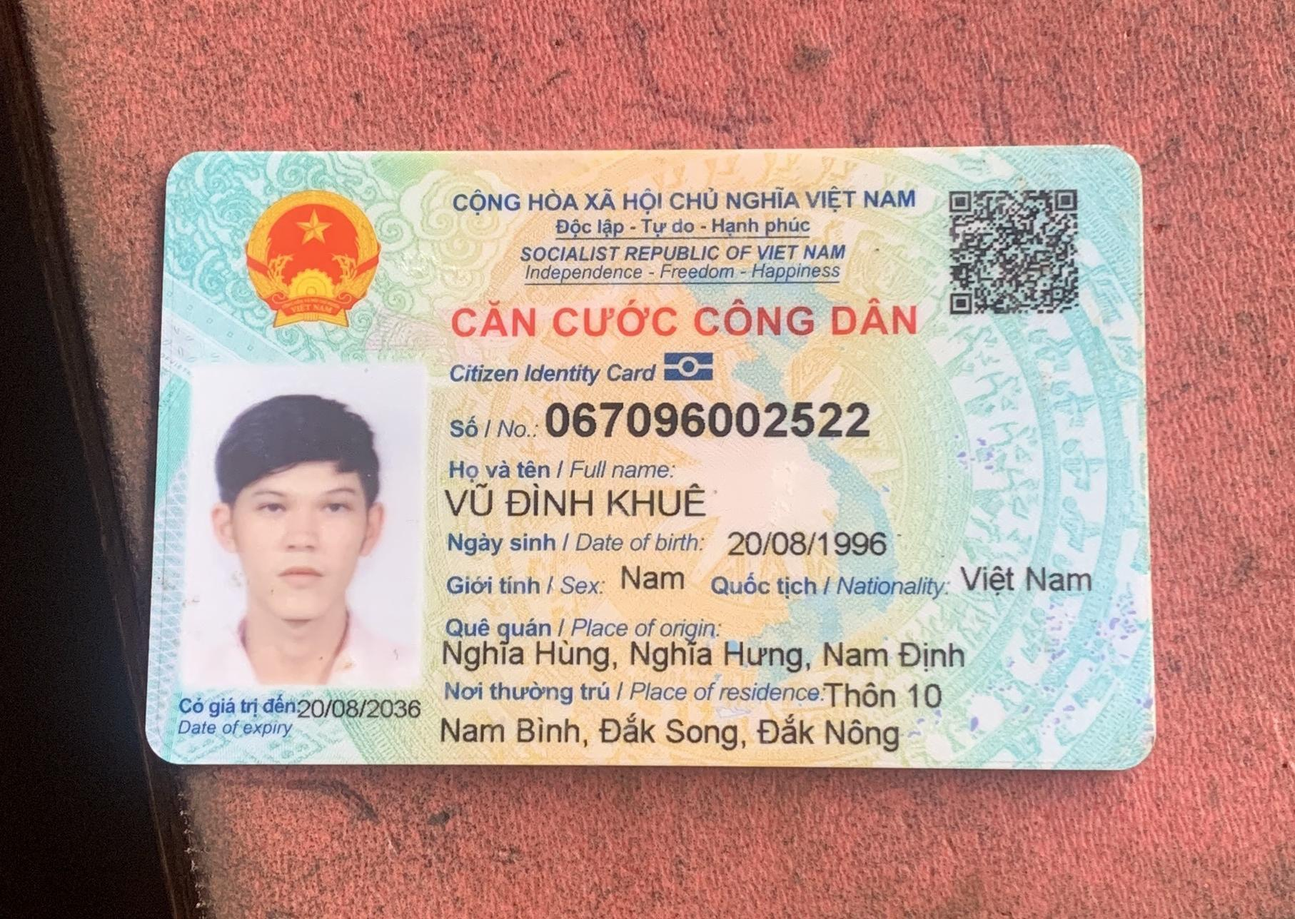ID: (540, 391, 876, 444)
birth: (720, 526, 896, 562)
name: (432, 482, 723, 524)
place: (432, 632, 982, 679)
residence: (430, 707, 903, 755), (819, 673, 949, 719)
